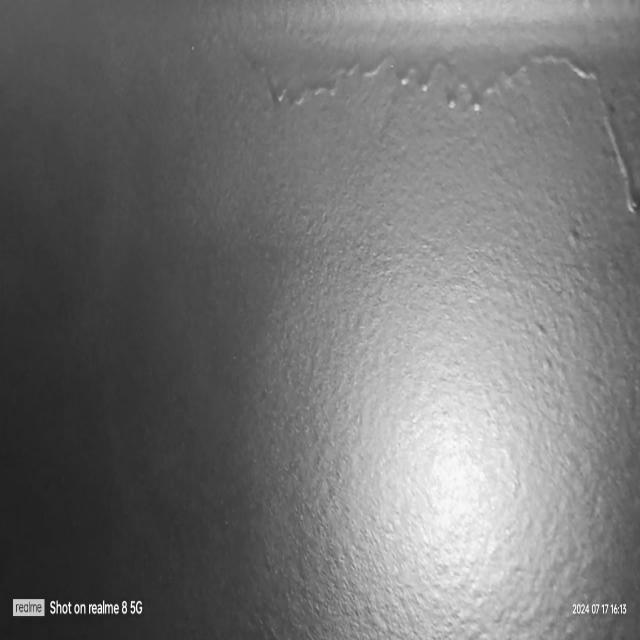paint drips: (260, 39, 640, 225)
